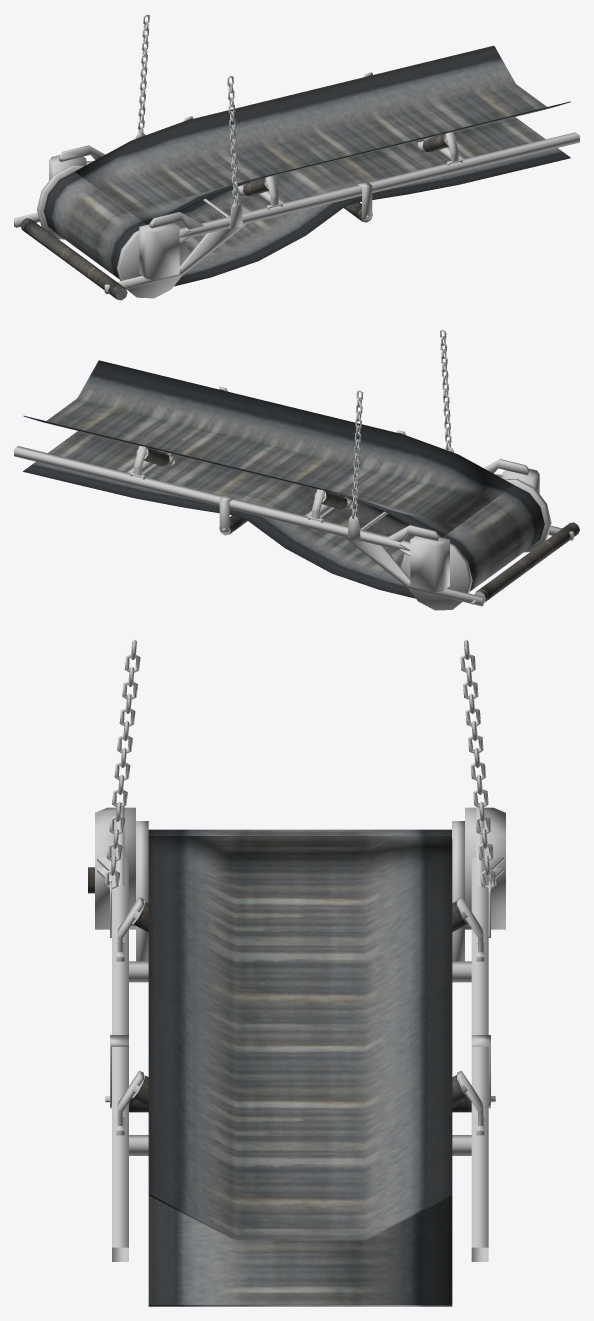
The model's file is conveyor_end.FBX.
3 views of the same model, one above another, from view 1: azimuth 30°, elevation 25°; view 2: azimuth 150°, elevation 25°; view 3: azimuth 270°, elevation 25° (orthographic). The views are drawn at different scales.
Parts seen in each view (by area): view 1: Mine_Conveyor_End_Mesh; view 2: Mine_Conveyor_End_Mesh; view 3: Mine_Conveyor_End_Mesh.
Boxes of the visible parts, left/top/right/bottom form: Mine_Conveyor_End_Mesh: left=14, top=14, right=579, bottom=300; Mine_Conveyor_End_Mesh: left=14, top=329, right=579, bottom=610; Mine_Conveyor_End_Mesh: left=88, top=639, right=505, bottom=1306.
Size of the model in its own units: 630 by 261 by 244.
